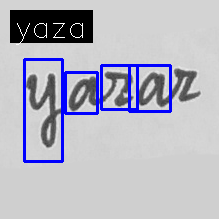a: (65, 73, 99, 114), (137, 70, 167, 108)
y: (24, 70, 60, 150)
z: (102, 69, 136, 108), (169, 65, 202, 103)
